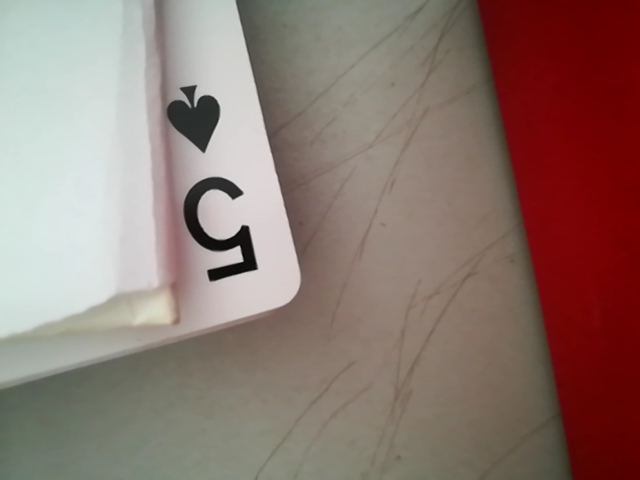ht 5: (151, 64, 289, 328)
